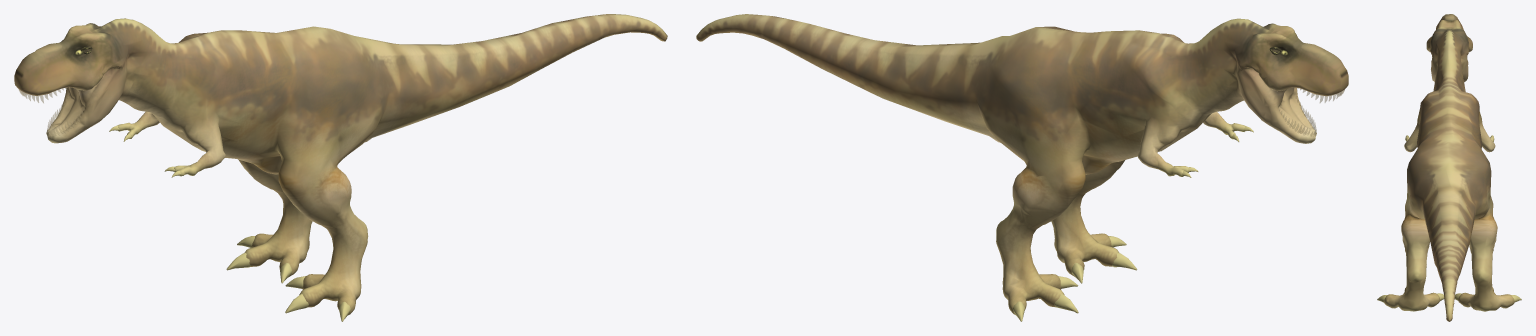
The model's file is T-Rex7.glb.
3 views of the same model, side by side, from view 1: azimuth 30°, elevation 25°; view 2: azimuth 150°, elevation 25°; view 3: azimuth 270°, elevation 25° (orthographic). The views are drawn at different scales.
Visible parts, largest first — view 1: T-Rex Model; view 2: T-Rex Model; view 3: T-Rex Model.
Boxes of the visible parts, x1=… form: T-Rex Model: x1=14, y1=14, x2=667, y2=321; T-Rex Model: x1=696, y1=14, x2=1348, y2=321; T-Rex Model: x1=1377, y1=14, x2=1521, y2=321.
Bounding box in the file's own units: 101 × 46.01 × 28.39.
Materials: 4 (4 with a texture image).
